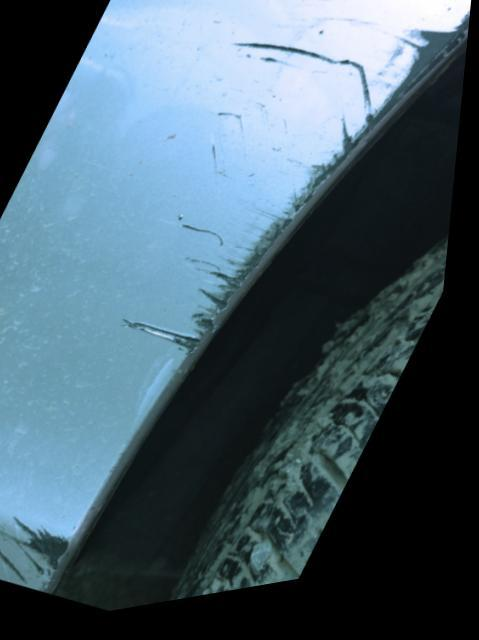scratch: (135, 10, 473, 383), (0, 508, 80, 599)
